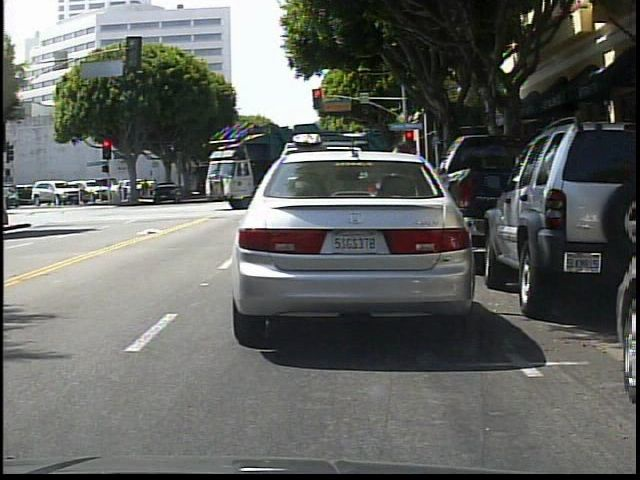person: (385, 137, 426, 273)
